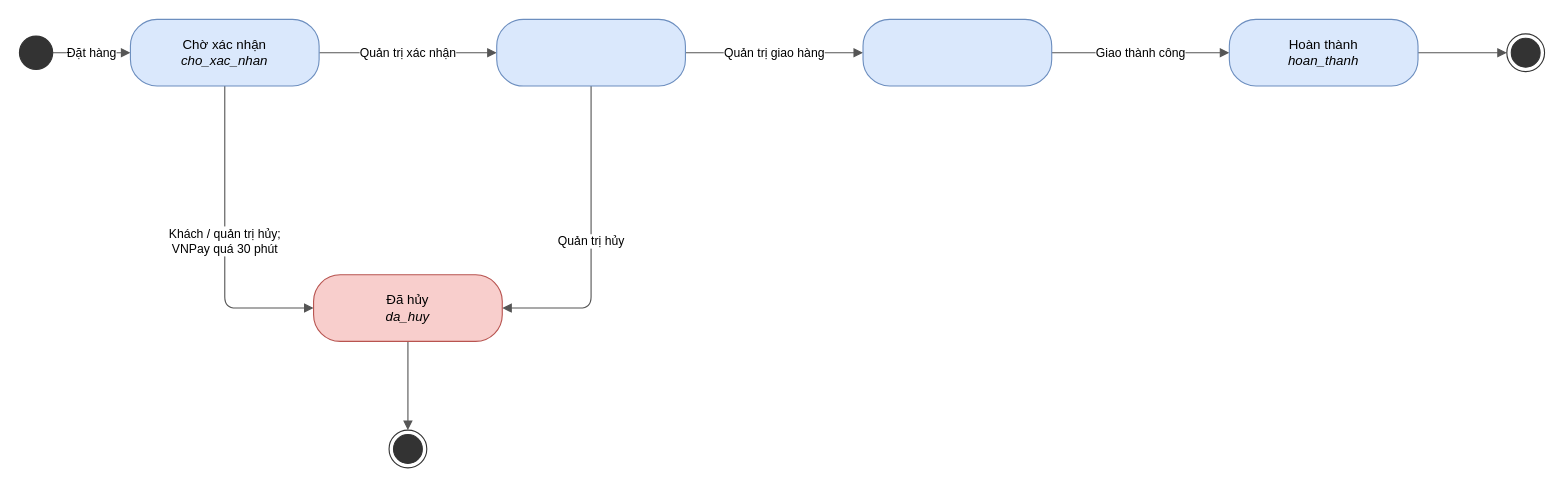
The diagram is 1564 pixels wide and 487 high, and some of its shapes have lost their labels. The shapes that lost their labels are listed below. From the top down, each one's centre as x and y in pixels, then its label:
At (x=590, y=52): "Đã xác nhận da_xac_nhan".
At (x=957, y=52): "Đang giao dang_giao".
